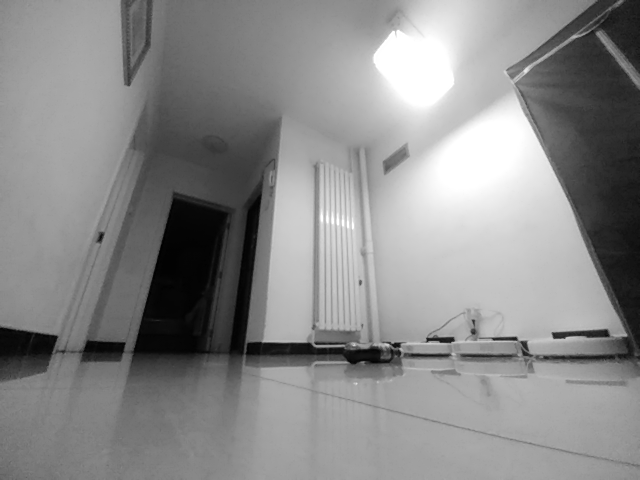others: (341, 341, 404, 366)
